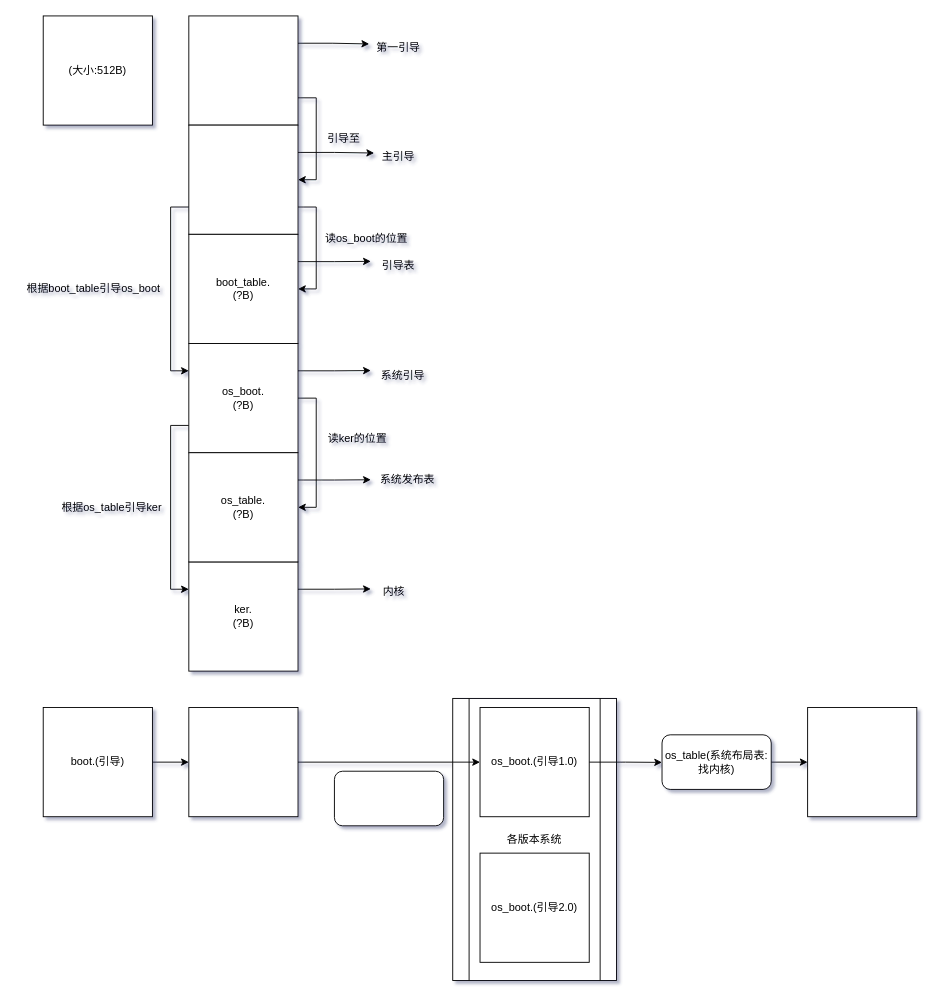
Some shapes in this 938 by 1002 pixel diagram are drawn without their labels. The box of each missing label's shape, as (x1, y1, x2, y2) in pixels:
boot. (512B): (188, 15, 298, 125)
boot_table(引导表:选系统): (334, 770, 444, 826)
ker.(内核): (807, 707, 917, 817)
main_boot. (?B): (188, 124, 298, 234)
main_boot.(引导): (188, 707, 298, 817)
